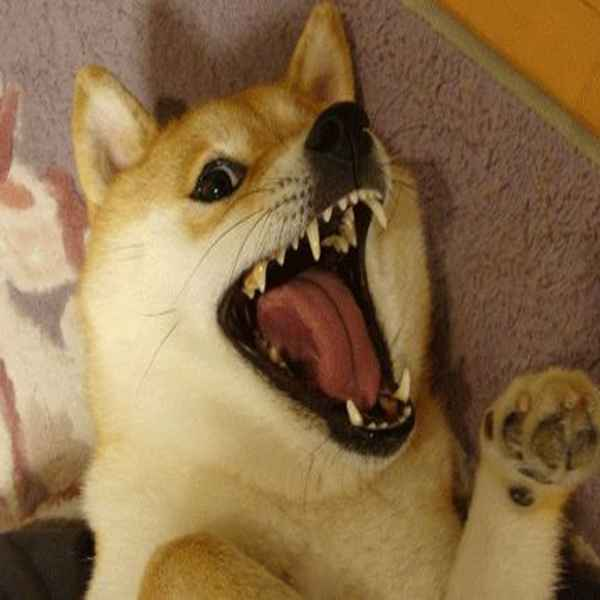doge: (32, 5, 461, 499)
